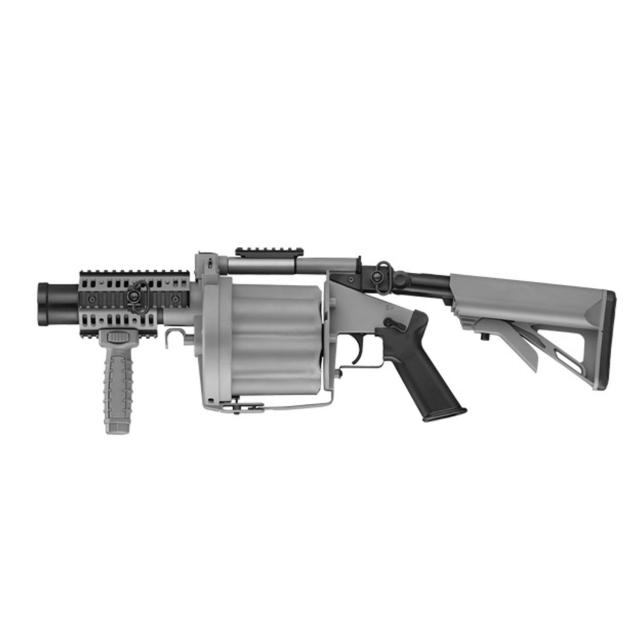Lancher: (24, 212, 640, 541)
